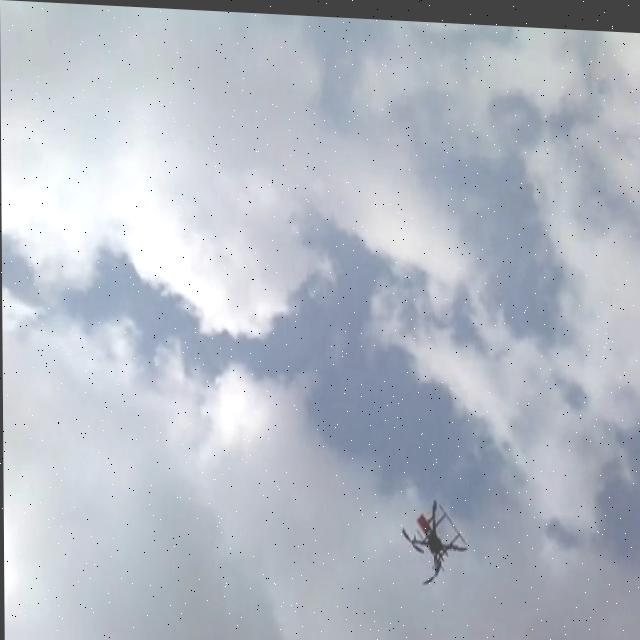drone: (398, 491, 468, 586)
